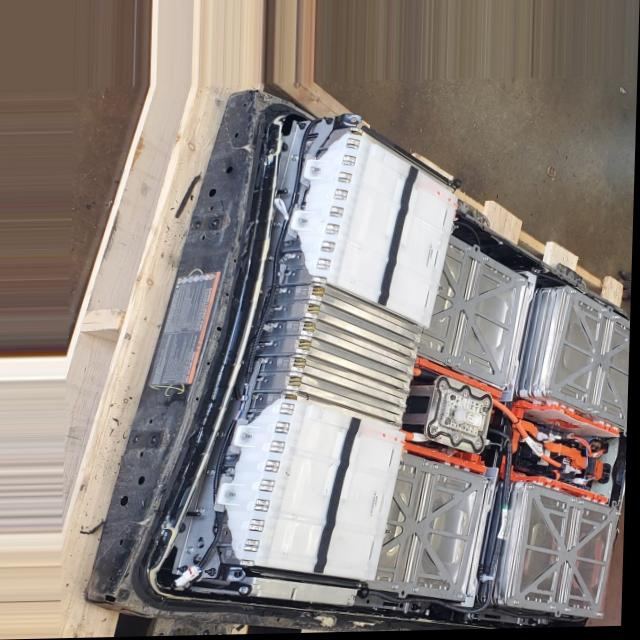Battery Module: (257, 405, 404, 578), (387, 469, 485, 589), (426, 261, 525, 376), (519, 497, 619, 608), (558, 309, 627, 410)
Bolt: (195, 506, 213, 518), (184, 542, 196, 559), (288, 149, 300, 165), (206, 468, 221, 480), (456, 363, 471, 374), (263, 252, 276, 264), (216, 430, 230, 441), (441, 357, 456, 367), (241, 586, 253, 598), (615, 510, 628, 521), (612, 314, 626, 324), (516, 277, 531, 286), (544, 388, 556, 399), (435, 463, 445, 476), (599, 306, 610, 317), (596, 411, 607, 422), (578, 500, 590, 510), (412, 588, 429, 595), (456, 594, 470, 602), (464, 246, 475, 256), (567, 498, 579, 507), (586, 406, 596, 416), (567, 608, 579, 616), (480, 257, 492, 265), (271, 221, 281, 230), (482, 478, 493, 486), (500, 381, 511, 389), (514, 602, 526, 609), (393, 586, 405, 593), (567, 291, 581, 297), (600, 614, 610, 622), (424, 462, 432, 471), (529, 487, 540, 493), (551, 607, 559, 615)
Bus-bar: (522, 423, 590, 471)
Nut: (297, 216, 315, 230), (450, 224, 469, 237), (383, 524, 398, 539), (206, 567, 220, 583), (295, 119, 311, 132), (435, 283, 447, 298), (319, 117, 337, 127), (469, 613, 487, 623), (310, 165, 327, 175), (226, 492, 243, 501), (240, 432, 255, 442), (177, 566, 193, 574)
